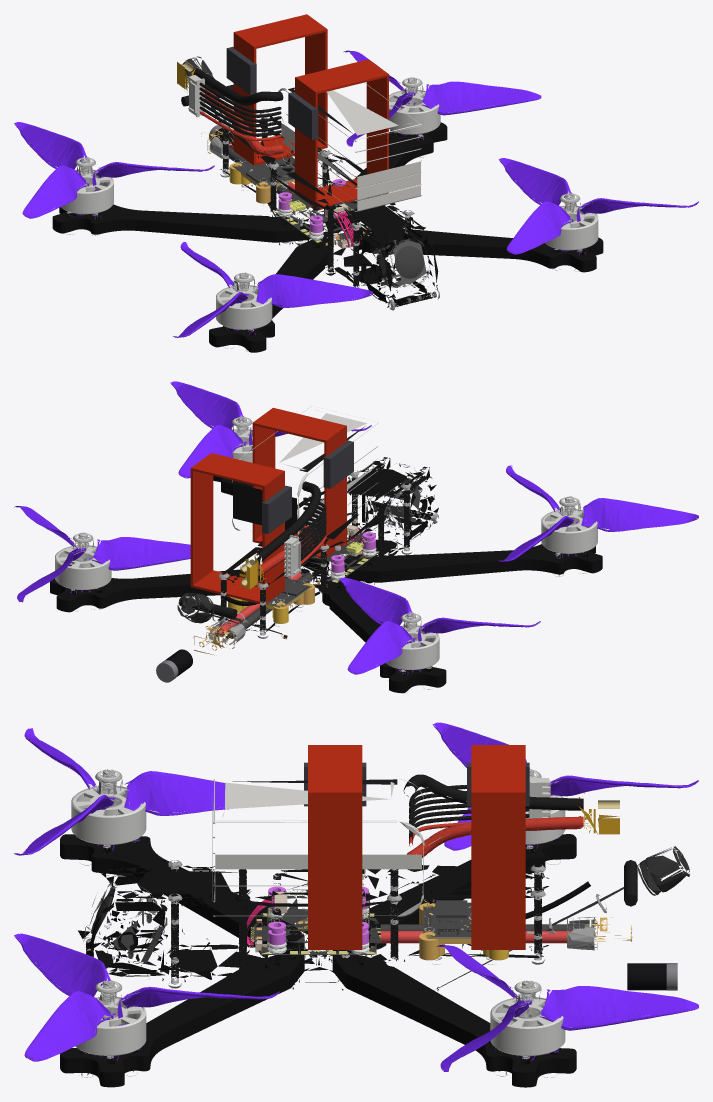
Rendered from fpv5_src.glb.
The picture shows the model from 3 angles, top to bottom: view 1: azimuth 30°, elevation 25°; view 2: azimuth 150°, elevation 25°; view 3: azimuth 270°, elevation 25°; orthographic projection. The views are drawn at different scales.
Parts seen in each view (by area): view 1: bateria__0__m0, frame_carbono__0__m1, helice__4__m0, helice__2__m0, helice__3__m0, helice__1__m0, braco__4__m0, bateria__0__m1, braco__4__m1, braco__3__m0, braco__2__m0, braco__2__m1 (+23 smaller); view 2: braco__3__m0, helice__4__m0, frame_carbono__0__m1, helice__3__m0, helice__1__m0, bateria__0__m1, braco__1__m0, helice__2__m0, _MeshInstance3D_54, motor__3__m3, motor__1__m3, _MeshInstance3D_58 (+20 smaller); view 3: frame_carbono__0__m1, _MeshInstance3D_54, _MeshInstance3D_59, braco__1__m0, helice__2__m0, helice__1__m0, bateria__0__m0, helice__3__m0, braco__3__m0, braco__2__m1, braco__2__m0, bateria__0__m1 (+27 smaller).
Boxes of the visible parts, left/top/right/bottom form: bateria__0__m0: left=276, top=82, right=421, bottom=211; frame_carbono__0__m1: left=220, top=116, right=437, bottom=307; helice__4__m0: left=14, top=122, right=214, bottom=218; helice__2__m0: left=498, top=158, right=698, bottom=254; helice__3__m0: left=173, top=242, right=372, bottom=337; helice__1__m0: left=343, top=50, right=541, bottom=146; braco__4__m0: left=52, top=207, right=309, bottom=242; bateria__0__m1: left=193, top=68, right=352, bottom=136; braco__4__m1: left=53, top=204, right=309, bottom=231; braco__3__m0: left=209, top=237, right=327, bottom=352; braco__2__m0: left=348, top=232, right=603, bottom=272; braco__2__m1: left=345, top=227, right=602, bottom=261; braco__3__m0: left=345, top=544, right=602, bottom=582; helice__4__m0: left=339, top=577, right=540, bottom=674; frame_carbono__0__m1: left=217, top=457, right=438, bottom=632; helice__3__m0: left=498, top=465, right=698, bottom=561; helice__1__m0: left=14, top=506, right=190, bottom=602; bateria__0__m1: left=233, top=426, right=365, bottom=561; braco__1__m0: left=50, top=568, right=309, bottom=612; helice__2__m0: left=170, top=381, right=371, bottom=478; _MeshInstance3D_54: left=190, top=453, right=213, bottom=587; motor__3__m3: left=541, top=508, right=597, bottom=553; motor__1__m3: left=55, top=545, right=111, bottom=589; _MeshInstance3D_58: left=324, top=425, right=346, bottom=559; frame_carbono__0__m1: left=78, top=862, right=548, bottom=990; _MeshInstance3D_54: left=471, top=791, right=525, bottom=949; _MeshInstance3D_59: left=308, top=791, right=362, bottom=949; braco__1__m0: left=332, top=953, right=576, bottom=1087; helice__2__m0: left=14, top=933, right=279, bottom=1061; helice__1__m0: left=436, top=944, right=698, bottom=1071; bateria__0__m0: left=212, top=779, right=424, bottom=916; helice__3__m0: left=14, top=728, right=228, bottom=855; braco__3__m0: left=60, top=834, right=304, bottom=953; braco__2__m1: left=60, top=953, right=304, bottom=1072; braco__2__m0: left=60, top=956, right=304, bottom=1087; bateria__0__m1: left=232, top=774, right=583, bottom=839.
Bounding box in the file's own units: 0.2966 × 0.0993 × 0.2521.
